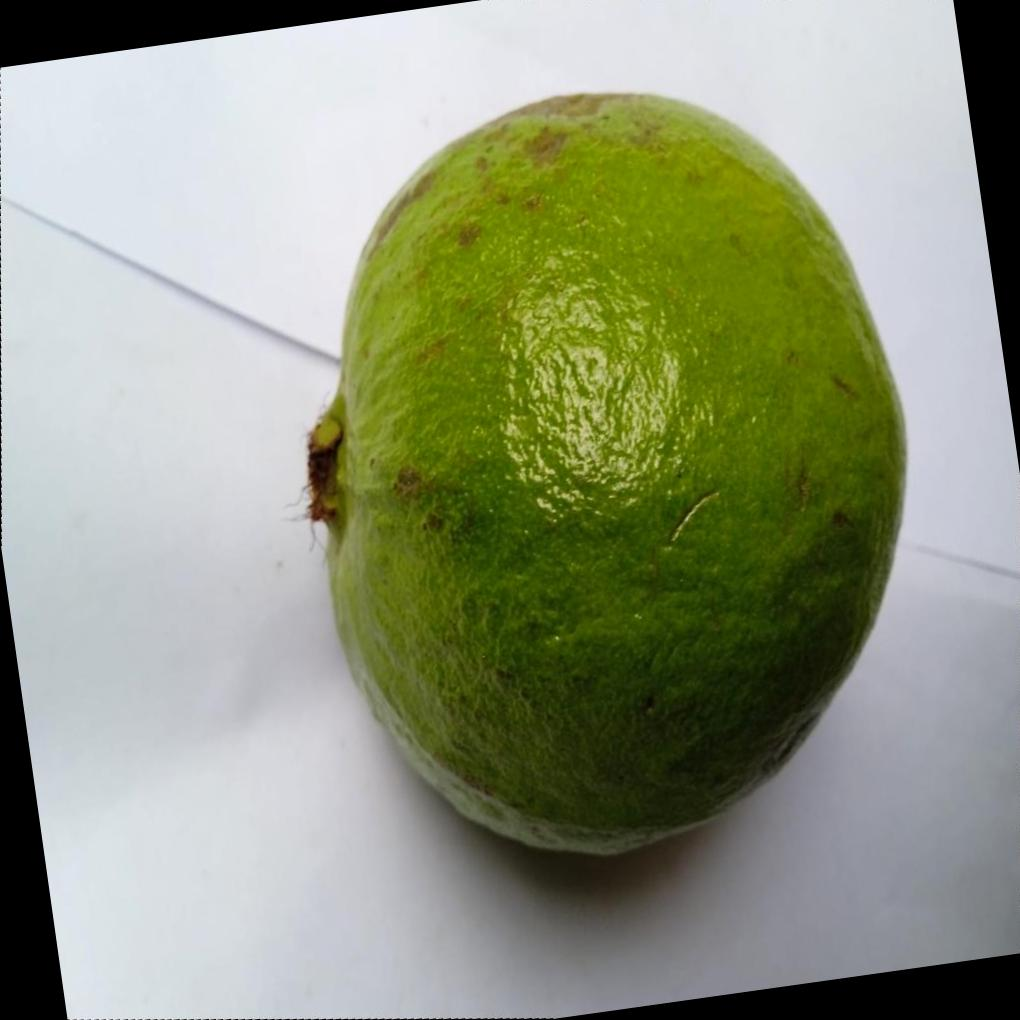FreshGuava: (307, 86, 909, 855)
